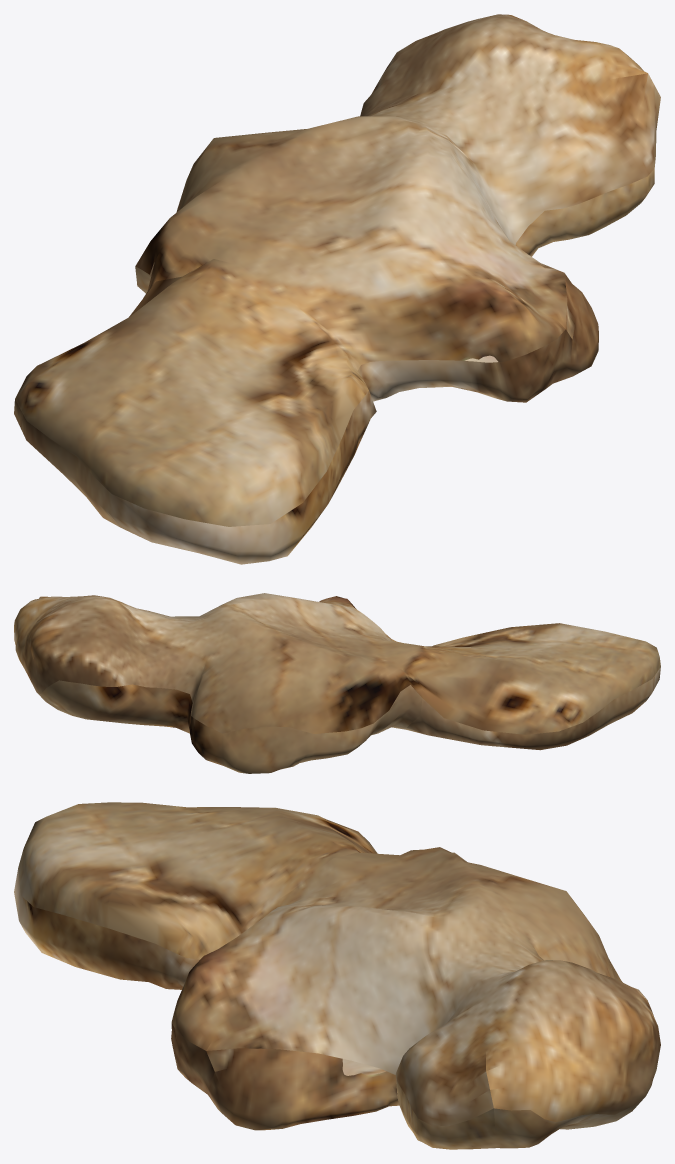
File: GingerHalves.fbx
3 renders of one model, top to bottom at view 1: azimuth 30°, elevation 25°; view 2: azimuth 150°, elevation 25°; view 3: azimuth 270°, elevation 25°, orthographic. The views are drawn at different scales.
Parts seen in each view (by area): view 1: Ginger1, Ginger2; view 2: Ginger1, Ginger2; view 3: Ginger1, Ginger2.
Part boxes in pixels (x1,y1,x2,y2): Ginger1: [135, 14, 660, 402]; Ginger2: [14, 259, 376, 564]; Ginger1: [14, 593, 422, 773]; Ginger2: [407, 623, 660, 750]; Ginger1: [171, 847, 660, 1149]; Ginger2: [14, 802, 377, 989].
Size of the model in its own units: 23.64 by 6.49 by 18.6.
1 material, 1 textured.
